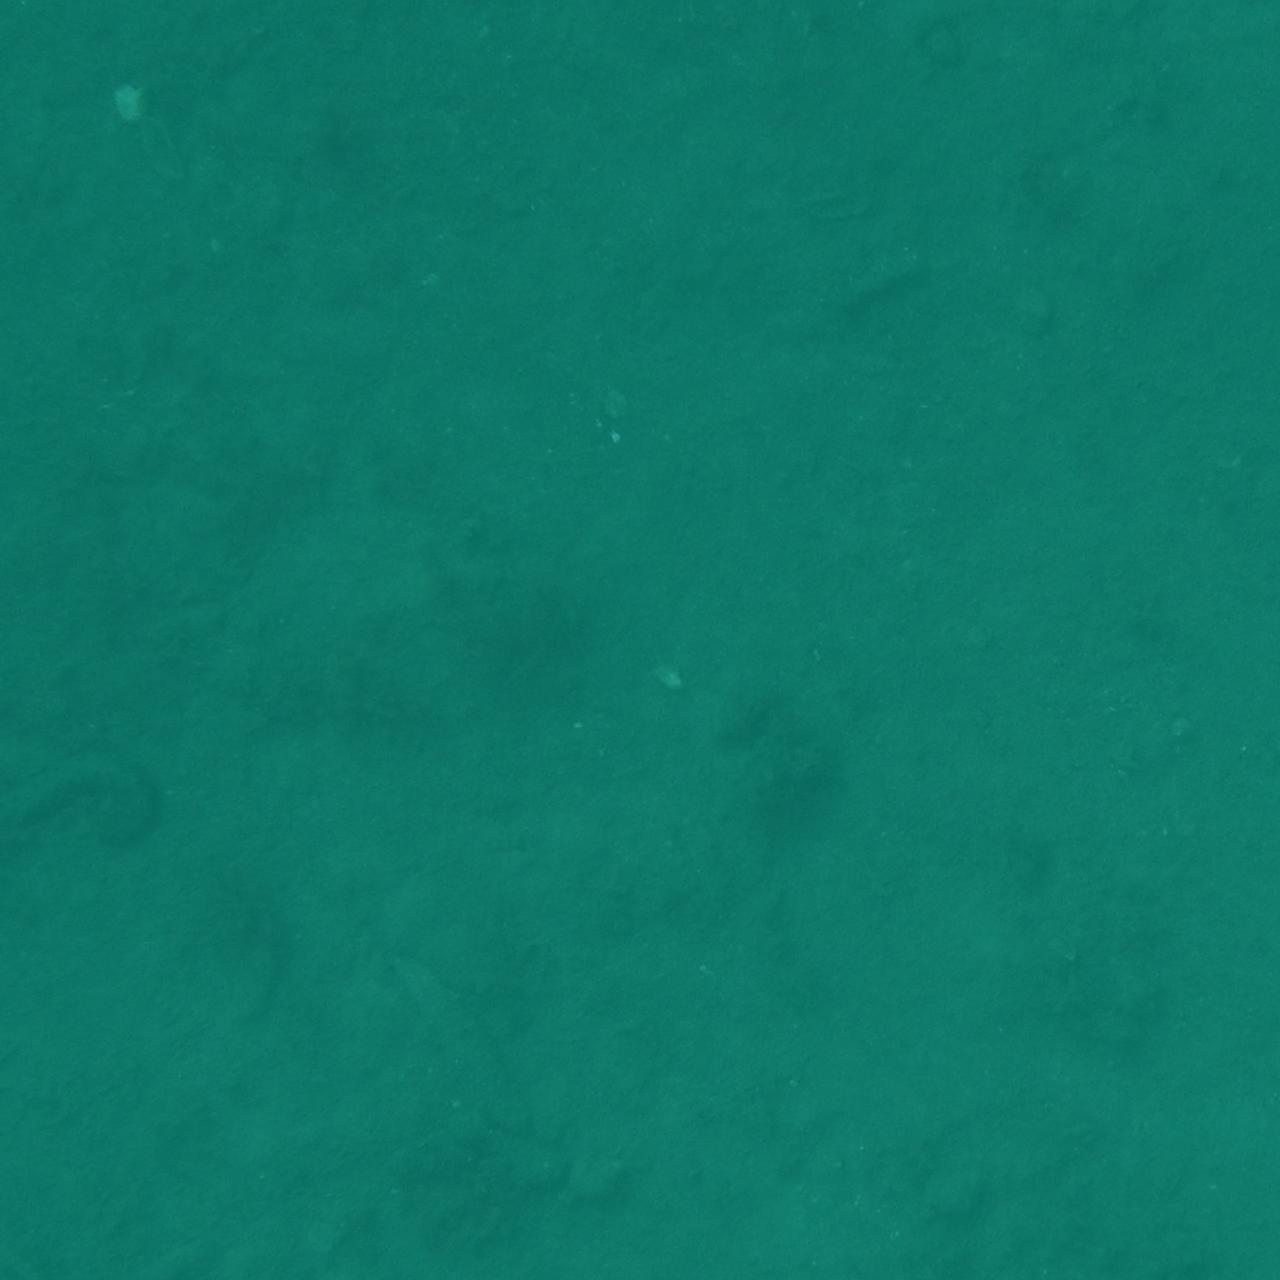Holothuria tubulosa: (1058, 1153, 1266, 1280), (0, 740, 186, 872), (1023, 1175, 1245, 1280), (1145, 145, 1280, 316), (0, 516, 111, 714), (1185, 640, 1280, 840), (871, 0, 1075, 75), (451, 1165, 579, 1280), (775, 1219, 992, 1280), (1122, 358, 1280, 438), (0, 257, 52, 502), (0, 1164, 103, 1280), (0, 1182, 118, 1280), (0, 0, 123, 88), (808, 231, 930, 319), (1228, 937, 1280, 1141), (0, 0, 142, 68), (0, 0, 75, 127), (0, 0, 82, 115), (1143, 851, 1280, 919), (1198, 0, 1280, 103), (0, 0, 75, 103), (1212, 1169, 1280, 1280), (0, 0, 52, 117), (1191, 0, 1280, 64)
Rifiuto: (0, 1186, 137, 1280)
